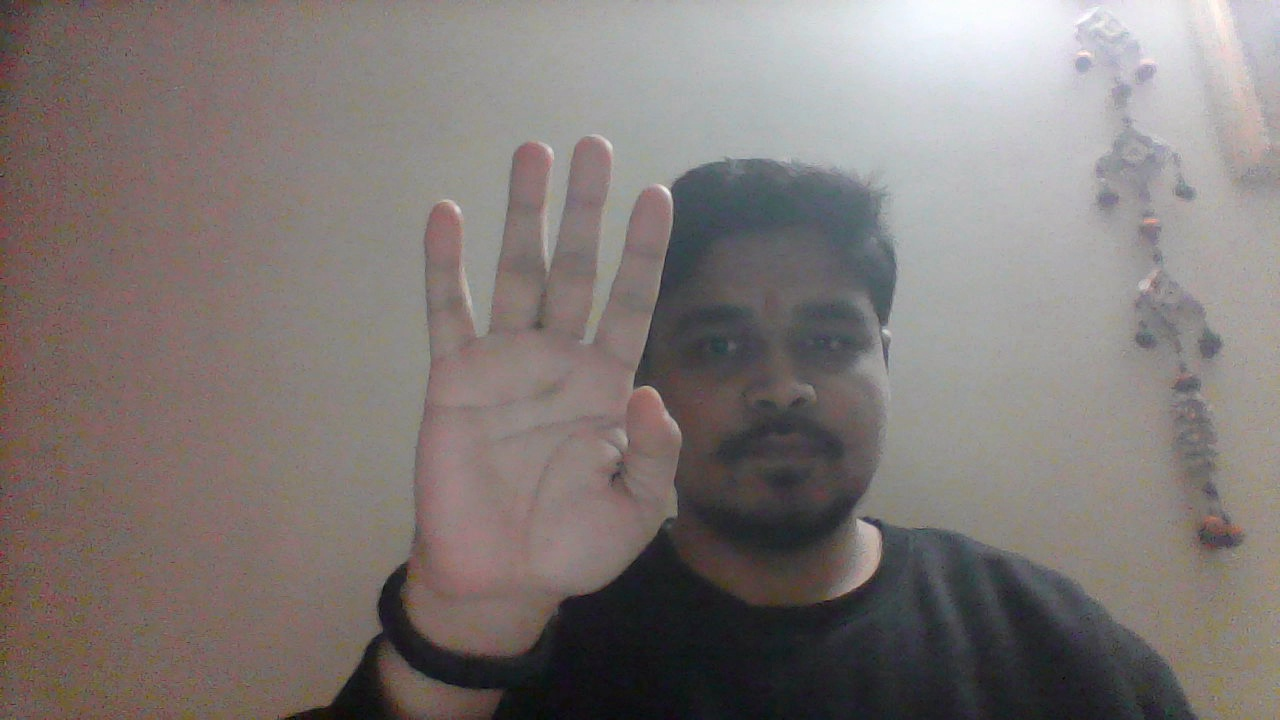Hello: (403, 131, 685, 634)
